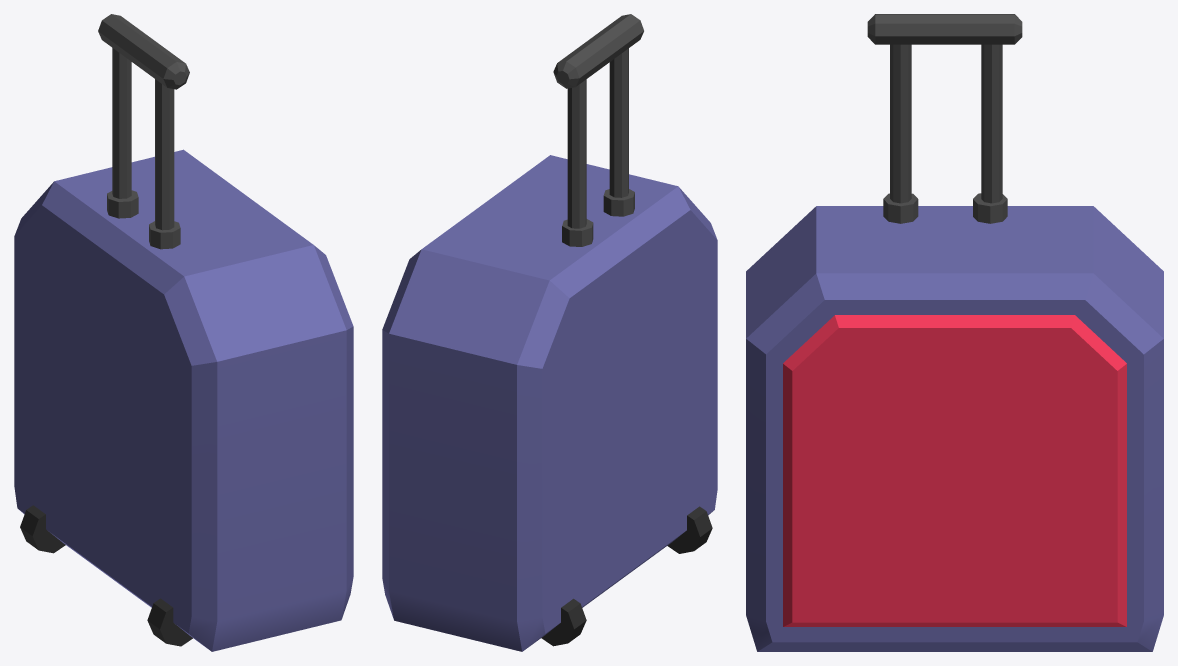
File: Luggage_3.fbx
The picture shows the model from 3 angles, left to right: view 1: azimuth 30°, elevation 25°; view 2: azimuth 150°, elevation 25°; view 3: azimuth 270°, elevation 25°; orthographic projection. The views are drawn at different scales.
Visible parts, largest first — view 1: pCylinder12; view 2: pCylinder12; view 3: pCylinder12.
Part boxes in pixels (x1=…): pCylinder12: x1=14, y1=14, x2=353, y2=651; pCylinder12: x1=382, y1=14, x2=717, y2=651; pCylinder12: x1=746, y1=14, x2=1163, y2=651.
Size of the model in its own units: 2.93 by 8.48 by 5.44.
